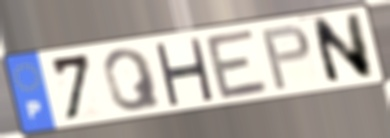7: (50, 51, 94, 124)
E: (202, 26, 273, 103)
H: (151, 37, 216, 106)
N: (308, 10, 377, 87)
P: (258, 22, 314, 93)
Q: (100, 46, 165, 114)
